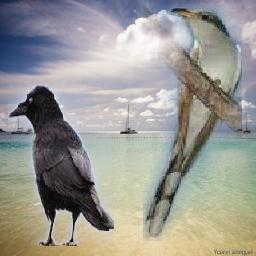Crow: (8, 84, 114, 246)
Cuckoo: (144, 5, 243, 241)
